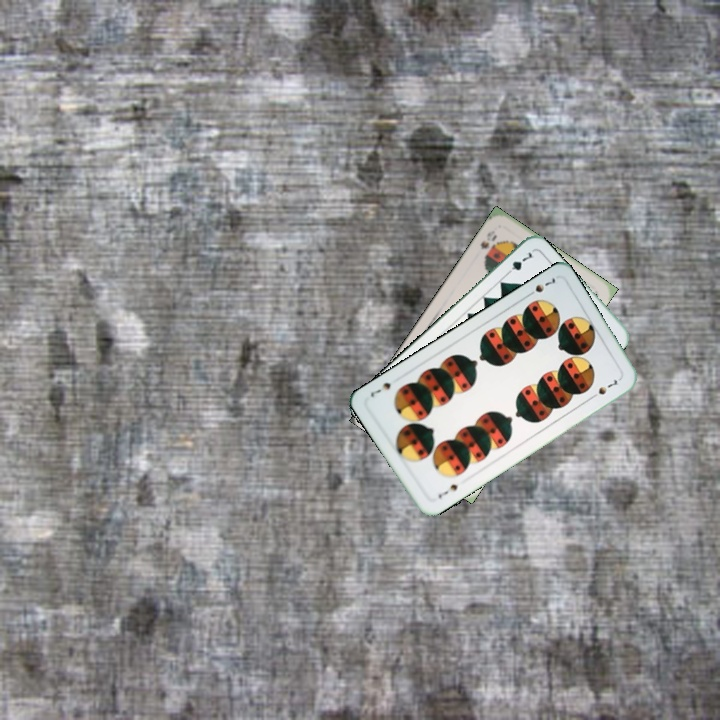G7: (501, 248, 536, 278)
S7: (522, 274, 558, 300), (434, 480, 460, 501)
SO: (476, 226, 500, 252)
